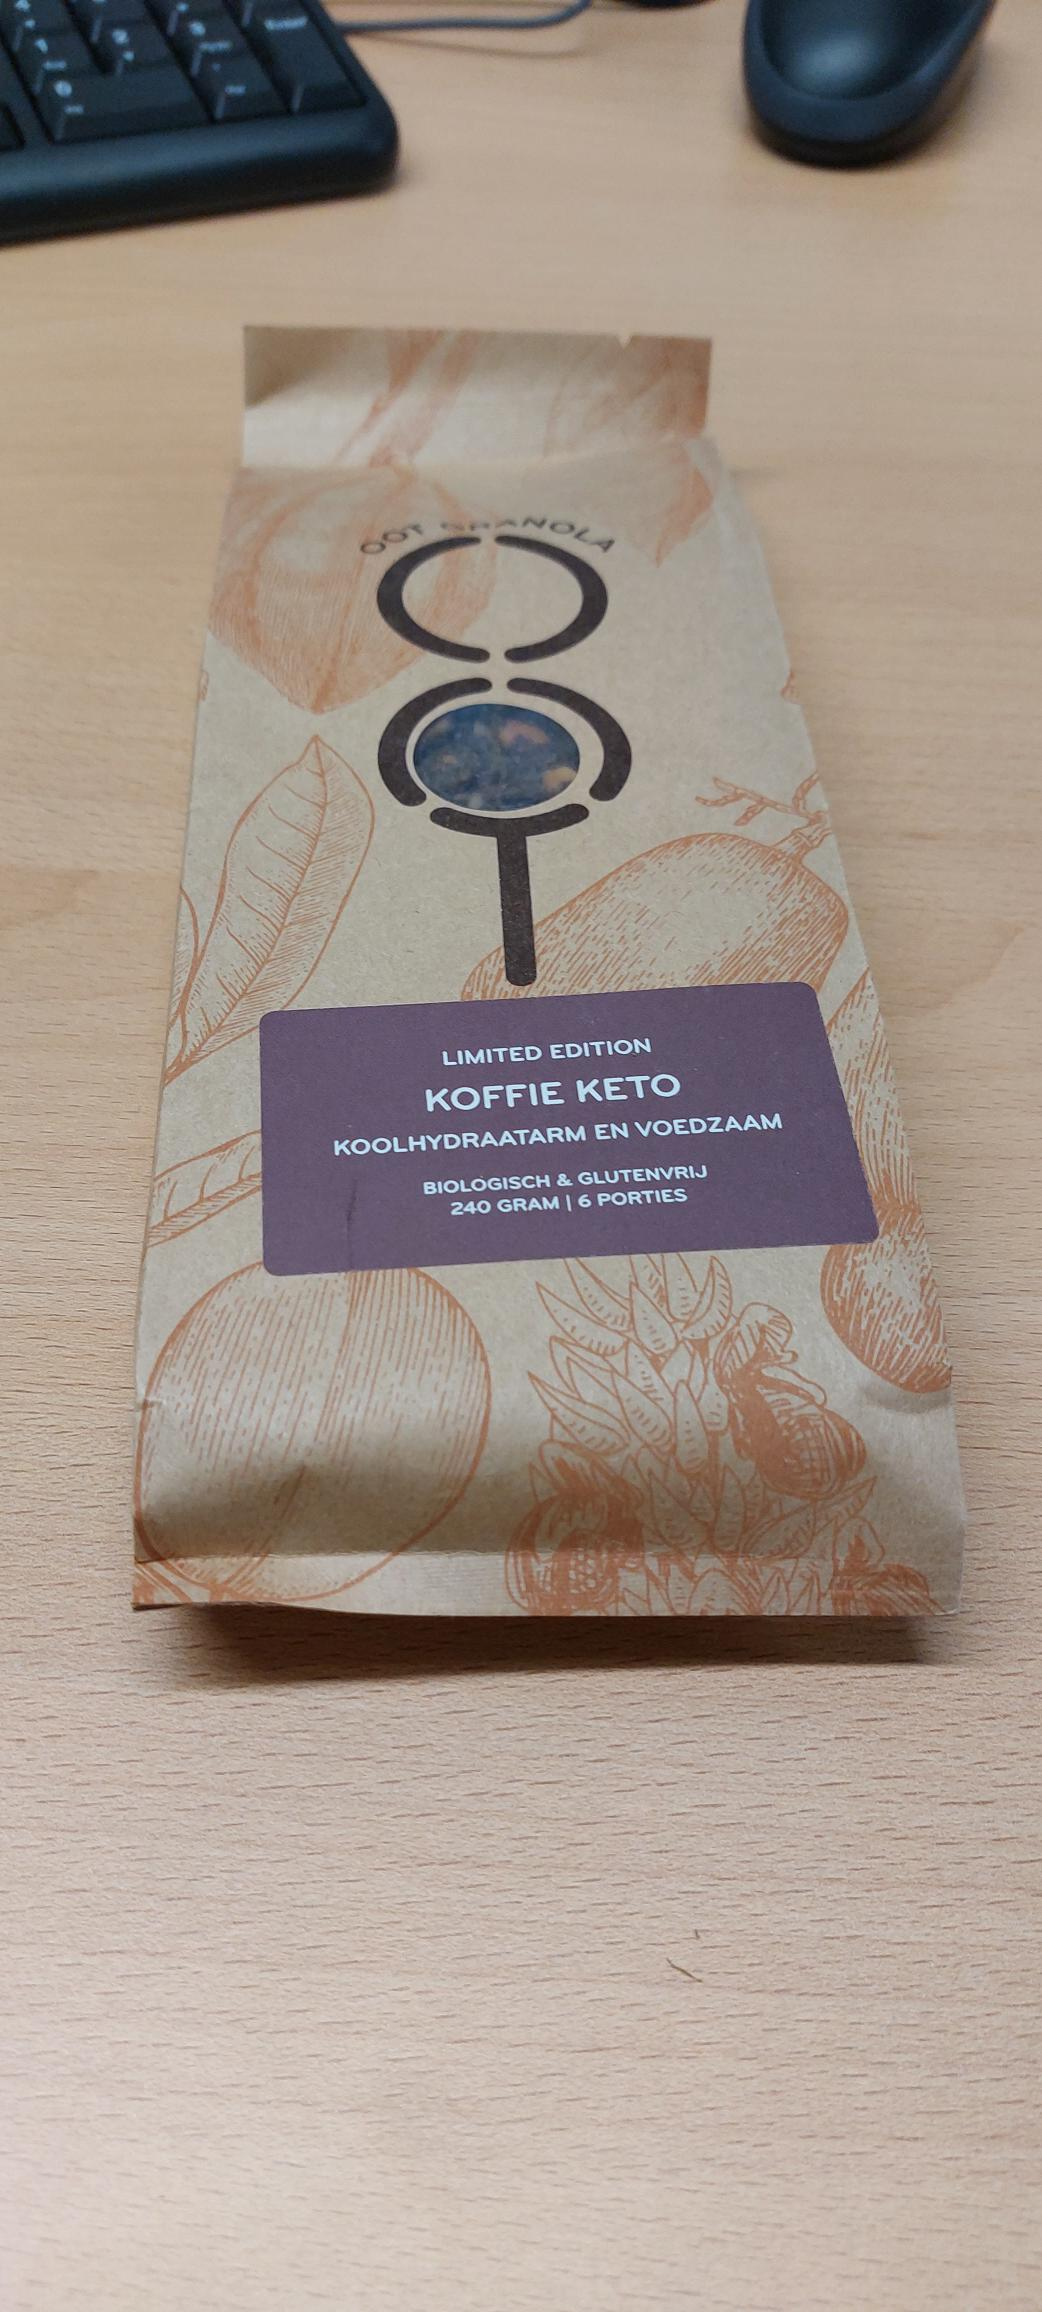KoffieKeto: (264, 989, 878, 1287)
